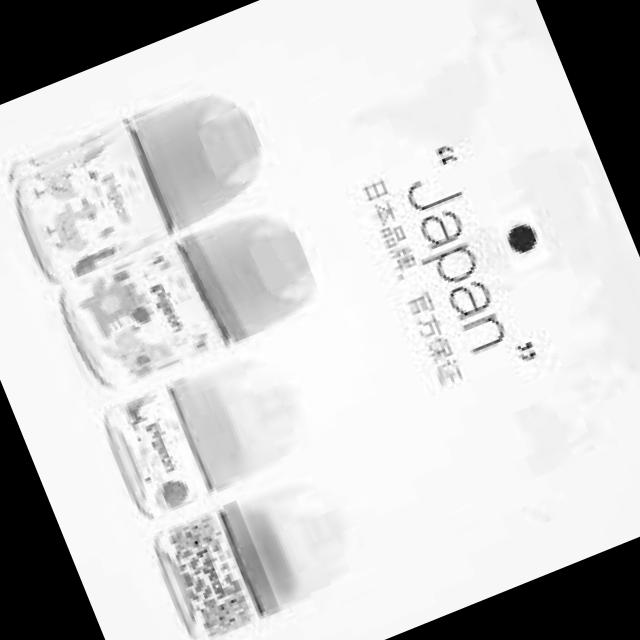plastic bottle: (38, 195, 326, 410), (0, 75, 272, 295)
